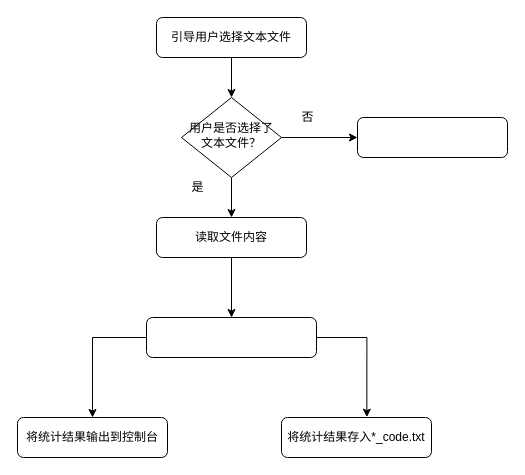
Some shapes in this 525 by 475 pixel diagram are drawn without their labels. The centre of each missing label's shape, as x and y in pixels:
"弹出错误信息" belongs at pixel 432 137.
"统计字符频度、构建Huffman编码树、得到统计结果" belongs at pixel 231 337.
